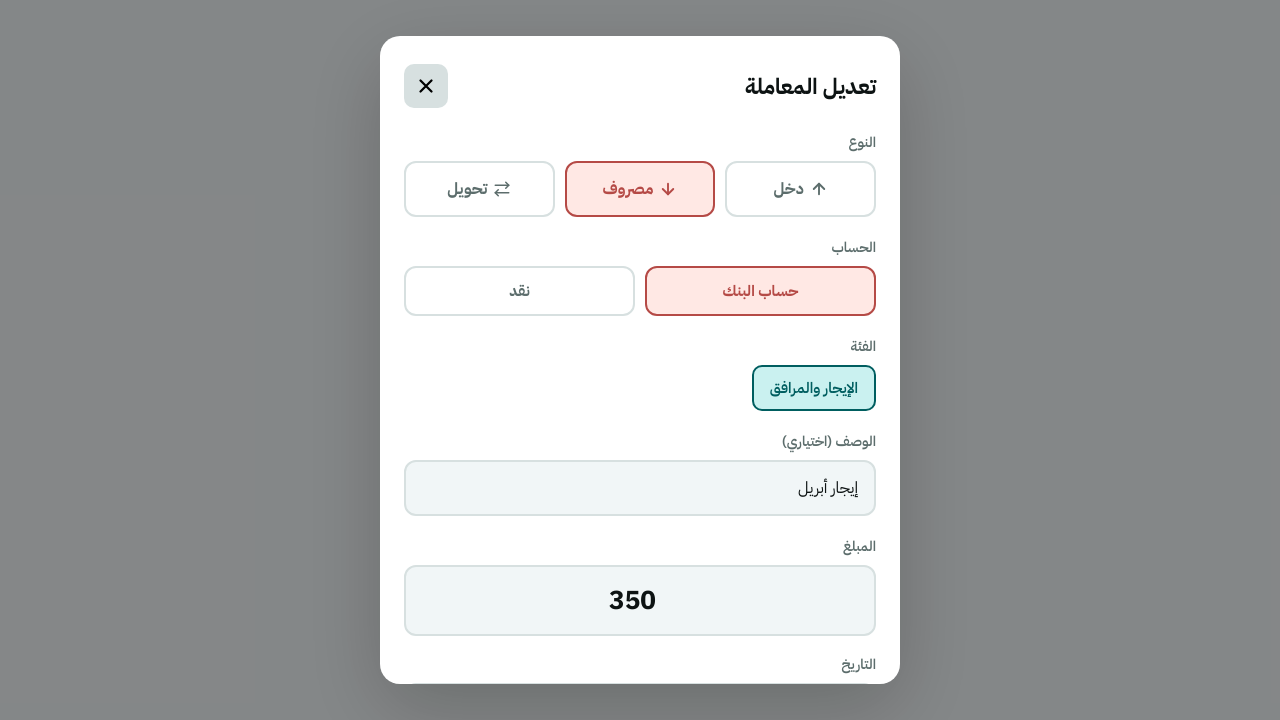
Test: AddTxModal (edit mode) › switching type to transfer in edit mode shows the bucket-pair UI
Click the button "تحويل": (479,189) 404,161 -> 555,217
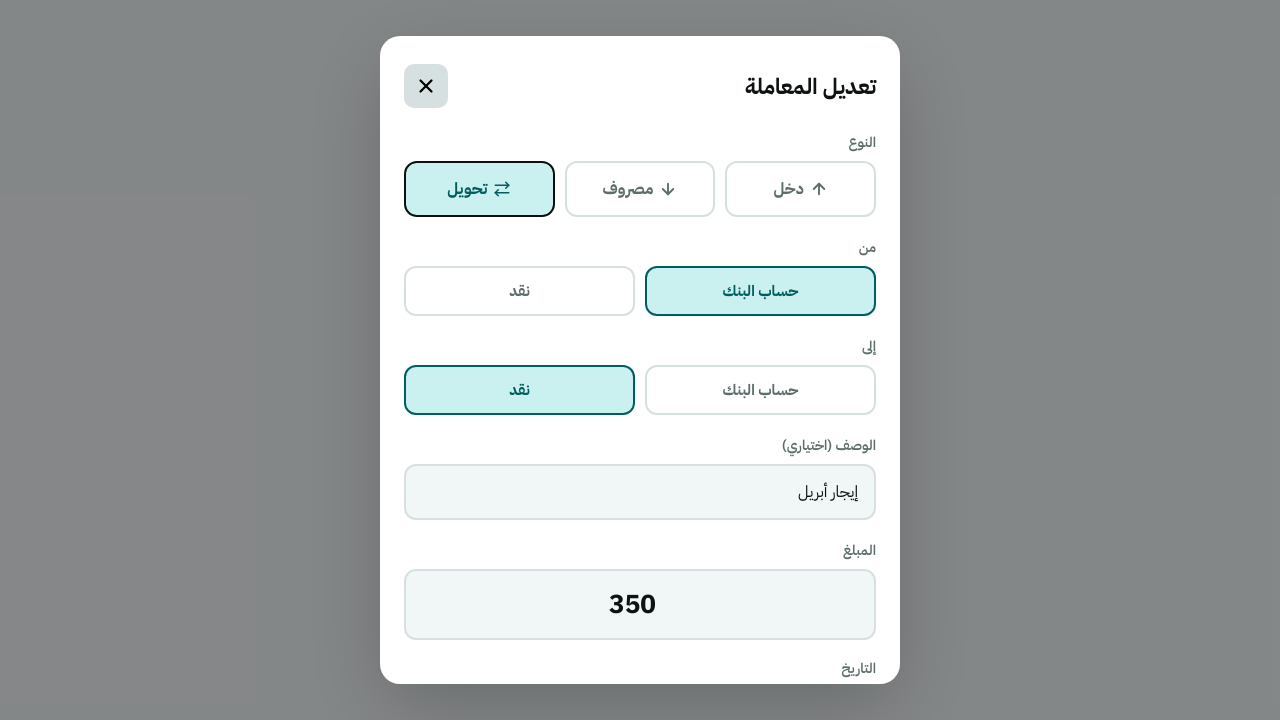
Now the text "من" is shown, box 859,237 -> 876,258
Now the text "إلى" is shown, box 862,336 -> 876,357
